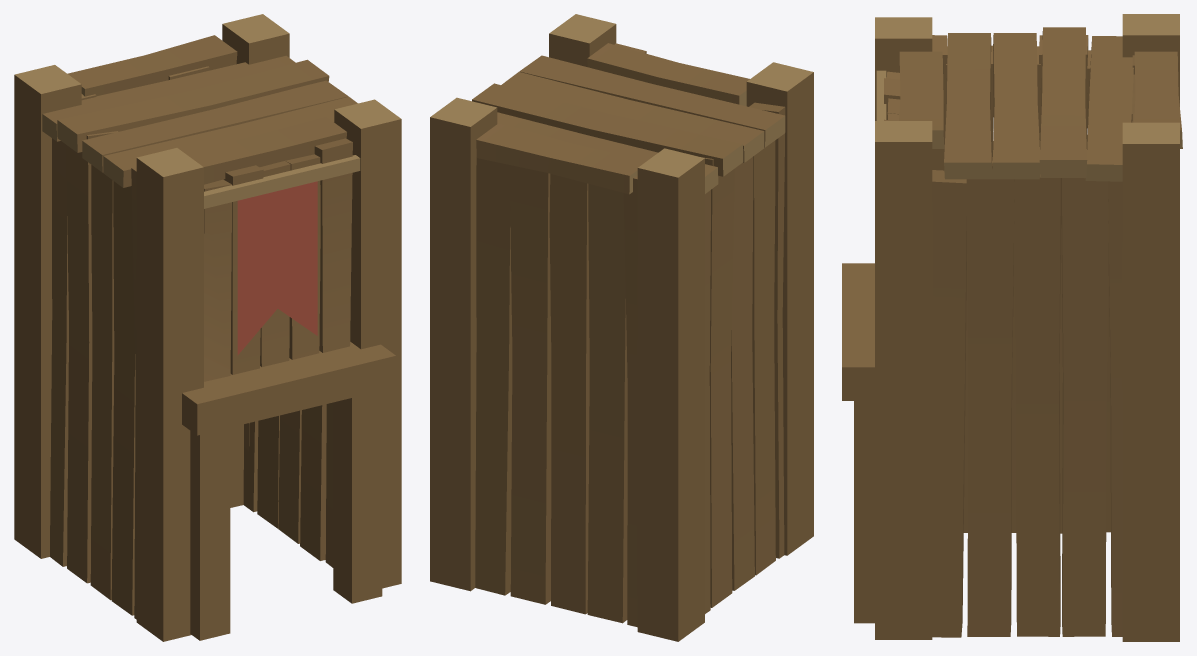
The model's file is WatchTower_FirstAge_Level1.glb.
3 views of the same model, side by side, from view 1: azimuth 30°, elevation 25°; view 2: azimuth 150°, elevation 25°; view 3: azimuth 270°, elevation 25° (orthographic). The views are drawn at different scales.
Visible parts, largest first — view 1: WatchTower_FirstAge_Level1; view 2: WatchTower_FirstAge_Level1; view 3: WatchTower_FirstAge_Level1.
Boxes of the visible parts, x1=… form: WatchTower_FirstAge_Level1: x1=14, y1=14, x2=401, y2=641; WatchTower_FirstAge_Level1: x1=430, y1=14, x2=813, y2=641; WatchTower_FirstAge_Level1: x1=842, y1=14, x2=1182, y2=641.
Size of the model in its own units: 0.473 by 0.8373 by 0.5193.
